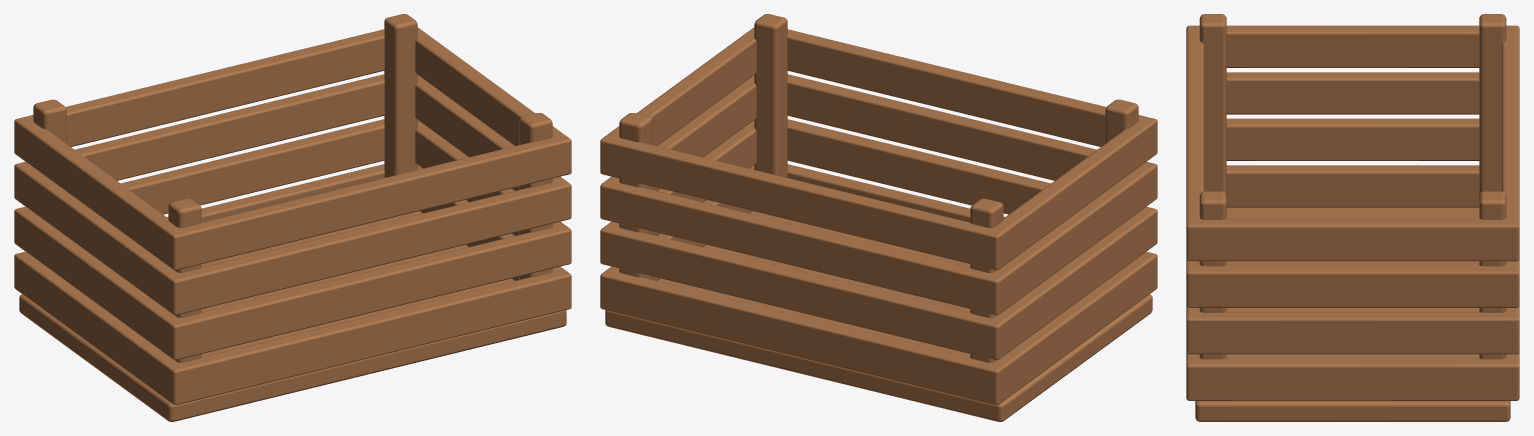
The model's file is wp-cageot-a-fruits.glb.
3 renders of one model, left to right at view 1: azimuth 30°, elevation 25°; view 2: azimuth 150°, elevation 25°; view 3: azimuth 270°, elevation 25°, orthographic. The views are drawn at different scales.
Parts seen in each view (by area): view 1: wp-cageot-a-fruits; view 2: wp-cageot-a-fruits; view 3: wp-cageot-a-fruits.
Boxes of the visible parts, box(x1,y1,x2,y2) form: wp-cageot-a-fruits: box(14, 14, 571, 421); wp-cageot-a-fruits: box(600, 14, 1157, 421); wp-cageot-a-fruits: box(1186, 14, 1519, 421).
Size of the model in its own units: 0.5 by 0.25 by 0.35.
